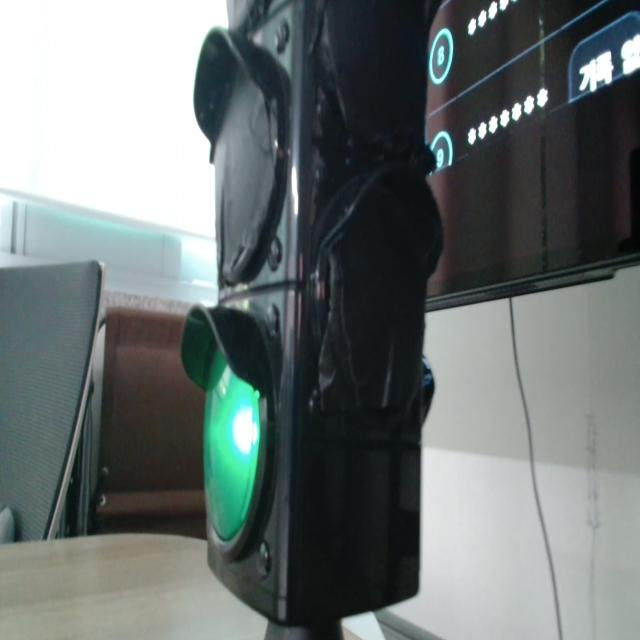green_light: (204, 351, 260, 541)
